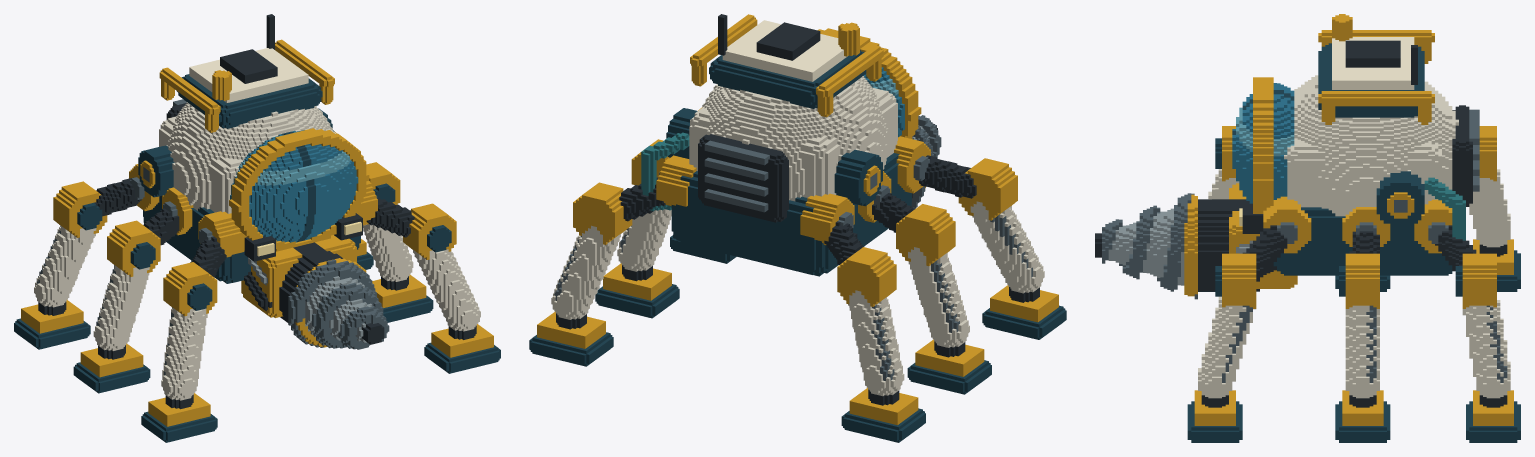
Rendered from seabed_miner.glb.
3 renders of one model, left to right at view 1: azimuth 30°, elevation 25°; view 2: azimuth 150°, elevation 25°; view 3: azimuth 270°, elevation 25°, orthographic. The views are drawn at different scales.
Parts seen in each view (by area): view 1: seabed_miner; view 2: seabed_miner; view 3: seabed_miner.
Boxes of the visible parts, <box> form: seabed_miner: <box>14,14,500,442</box>; seabed_miner: <box>529,14,1066,442</box>; seabed_miner: <box>1095,14,1520,442</box>.
Bounding box in the file's own units: 5.58 × 4.77 × 5.58.
